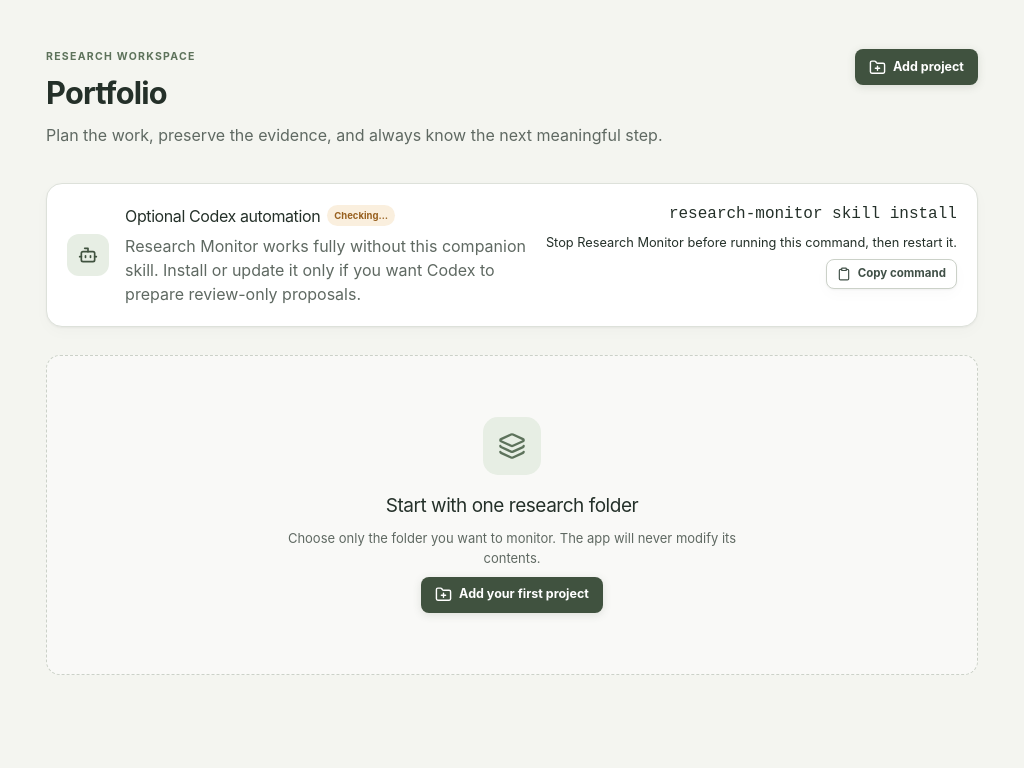
Test: Portfolio optional Codex automation › copies only the explicit CLI setup command
Click the button "Copy command".
click(891, 274)  # box [826,259,957,289]
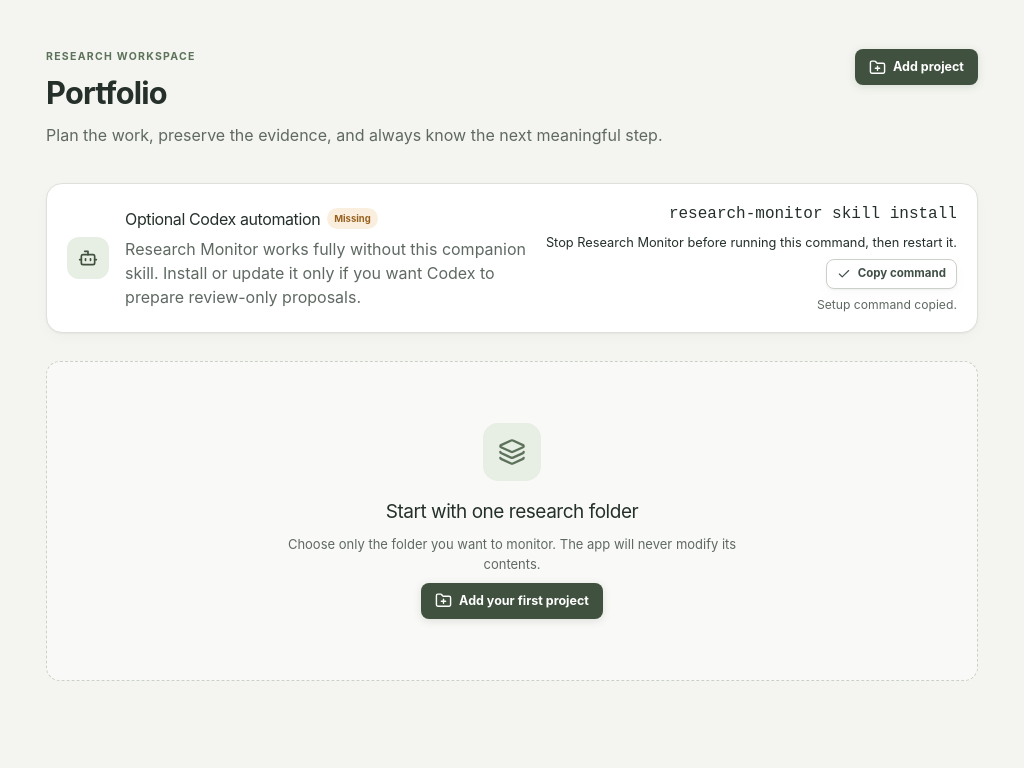
Now the text "Setup command copied." is shown, box [817,296,957,314]
